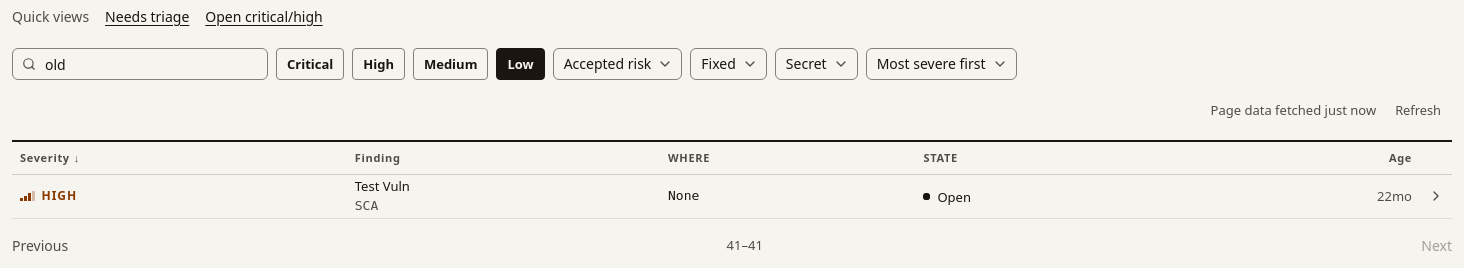
FindingsDashboard › opens the Needs triage view with one complete request and no old filters or offset
The width and height of the screenshot is (1464, 268).
Expected: the link "Test Vuln" is shown, 355,177 -> 410,195
Click the link "Needs triage".
click(147, 16)  # box 105,6 -> 189,26
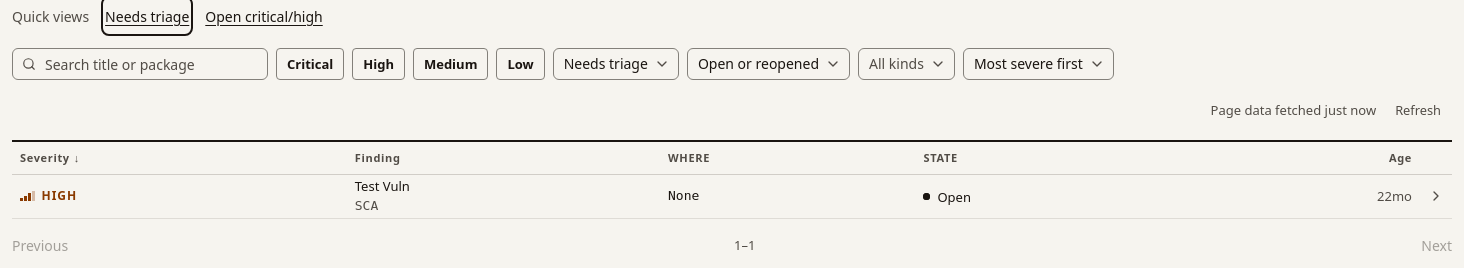
Expected: the dropdown named "Filter by status" reads "Open or reopened", 687,48 -> 850,80
